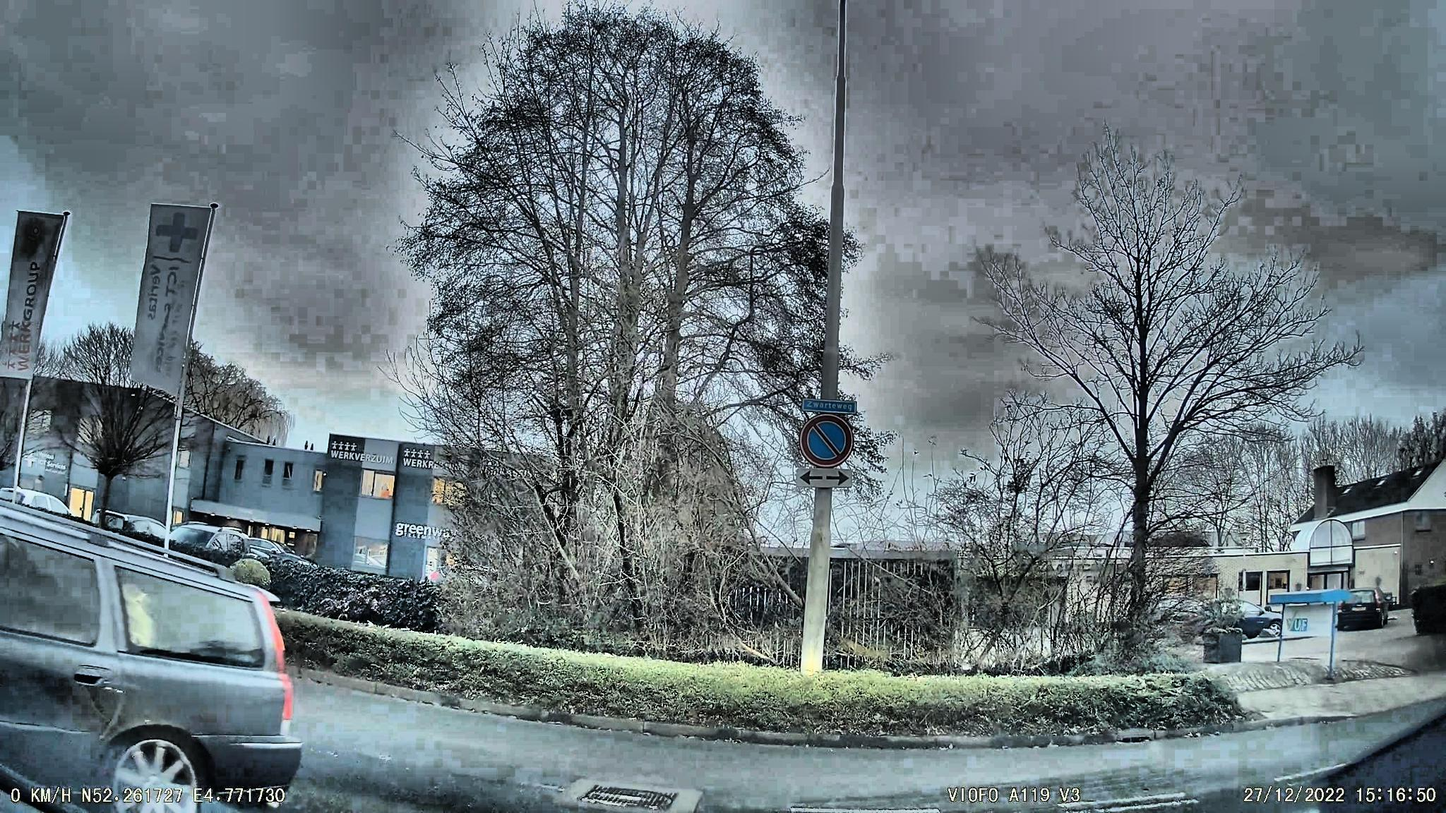Roads: (273, 678, 1446, 813)
